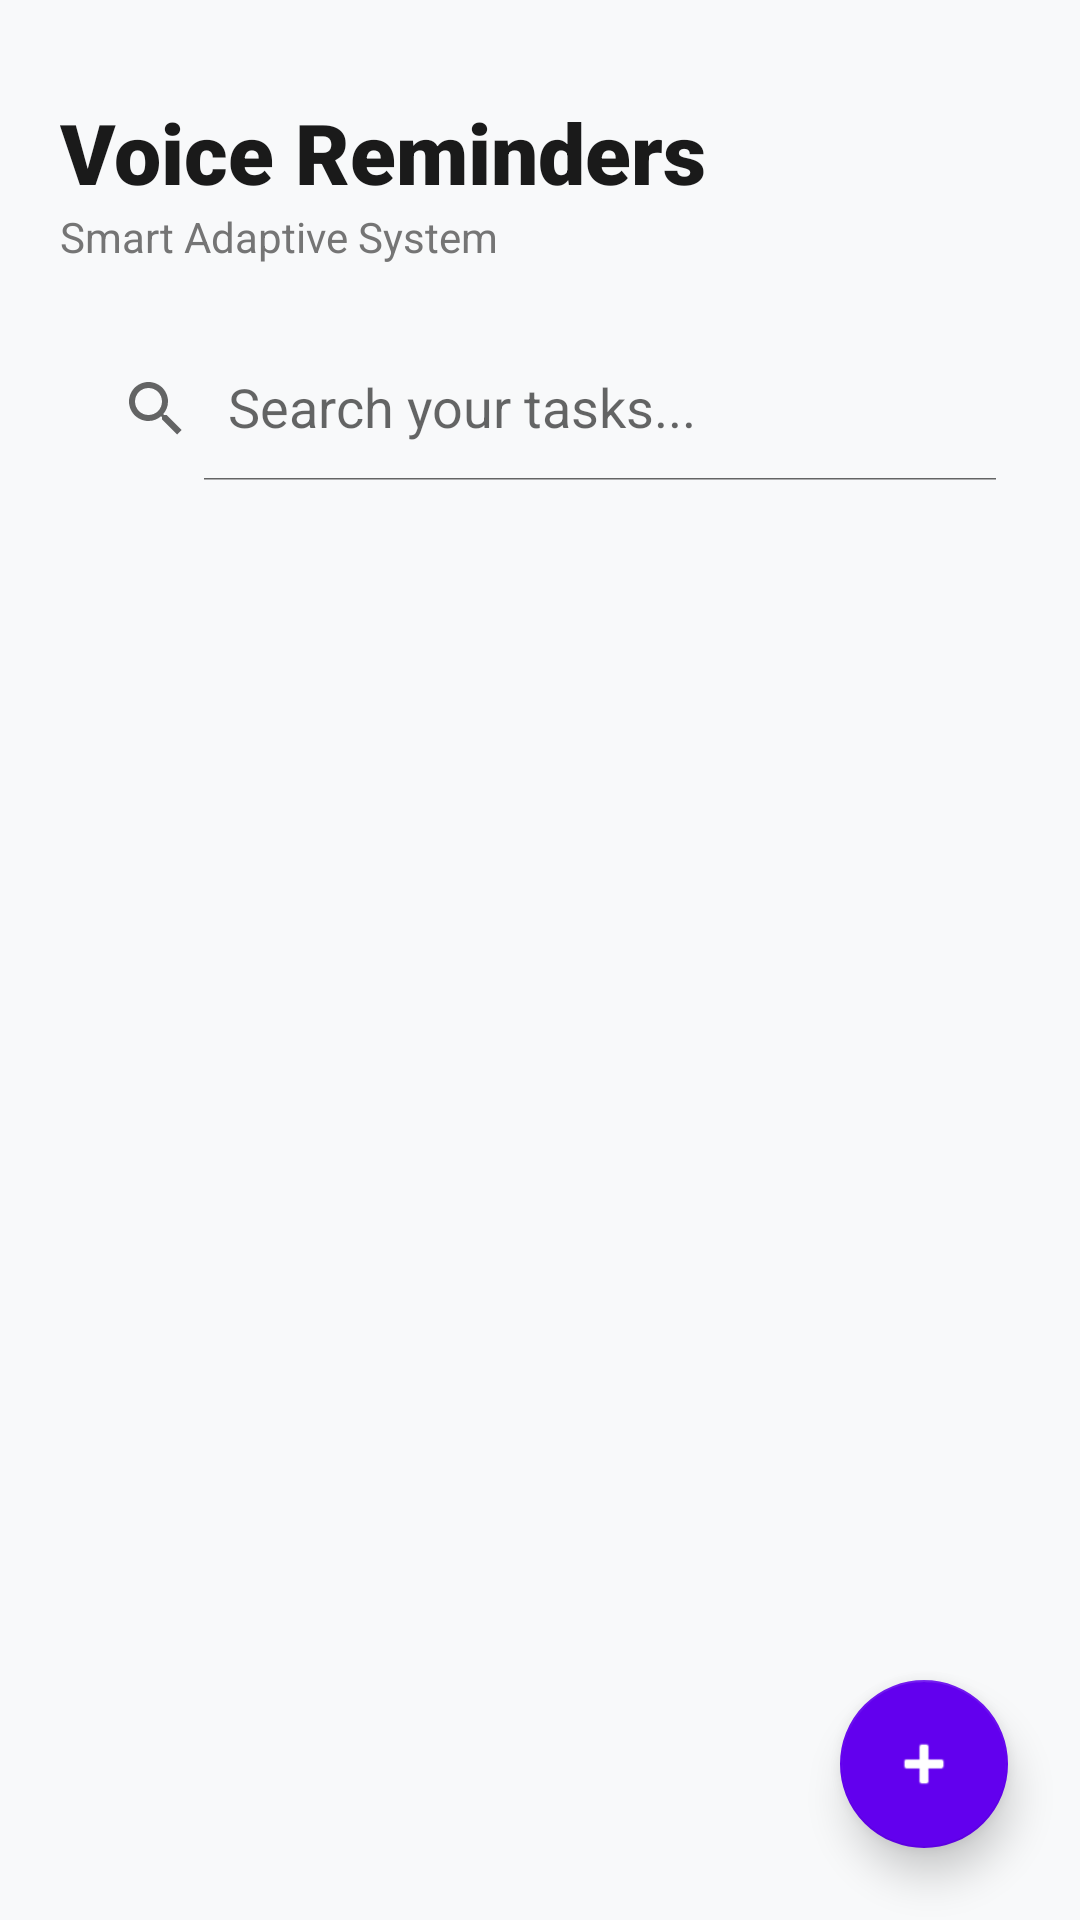

Where icons sit on this 1080px x 1920px app screen, as bbox=(x1, y1, x2, y2):
Add new reminder: bbox=(840, 1680, 1008, 1848)
